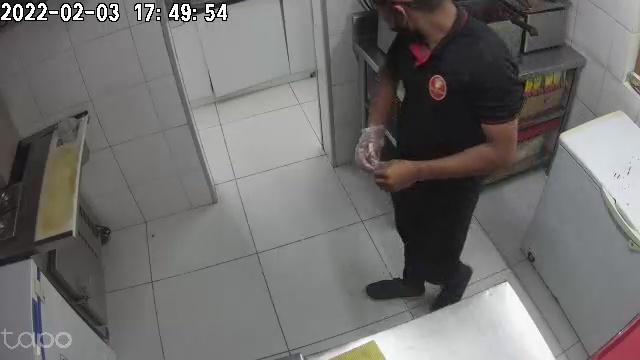gloves: (355, 116, 388, 169)
